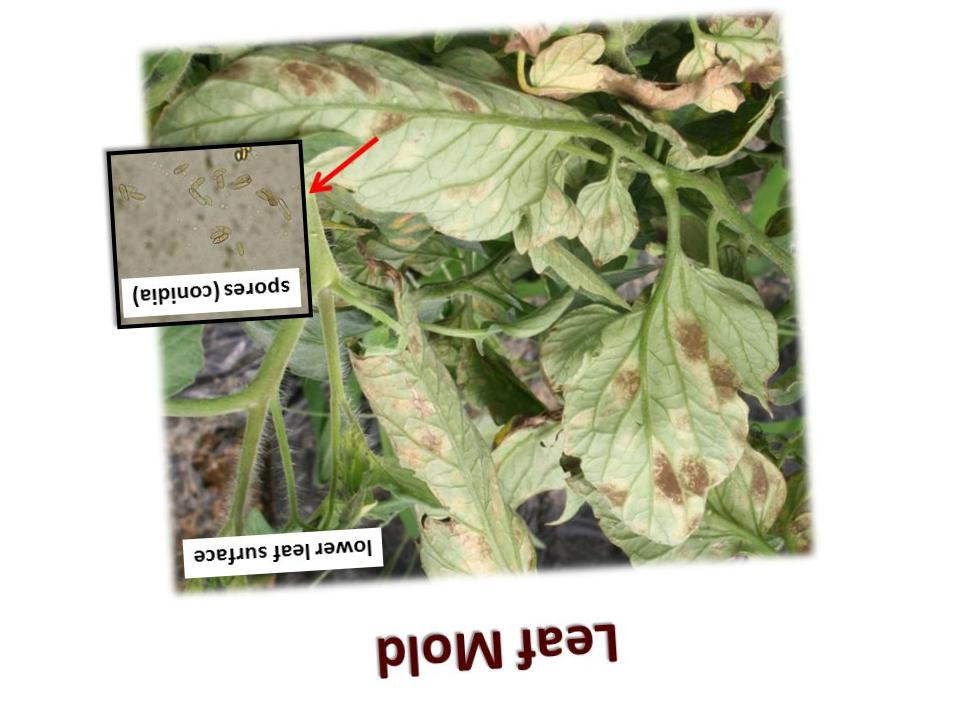Tomato mold leaf: (161, 33, 590, 276), (546, 242, 793, 557), (348, 281, 555, 579), (567, 165, 651, 270)
